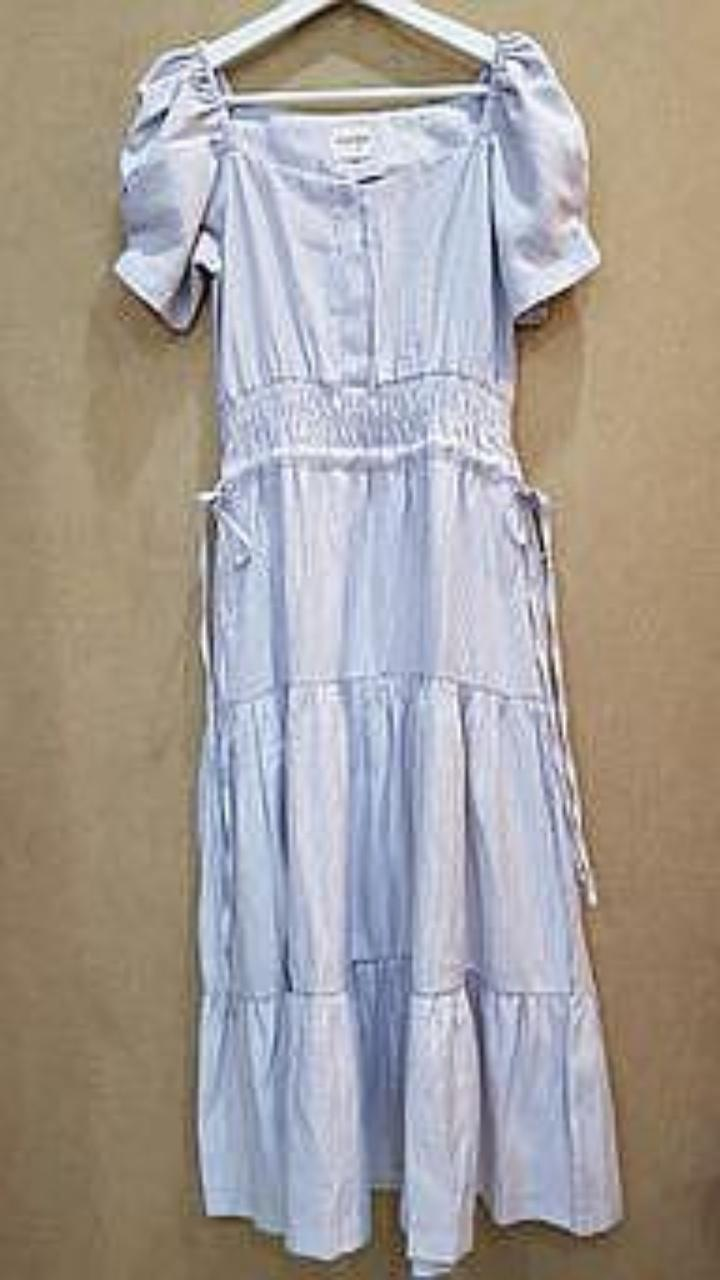Dresses: (114, 31, 621, 1275)
